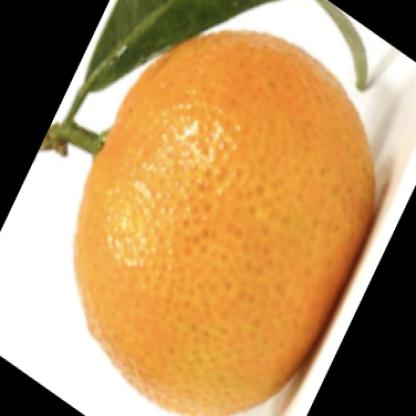fresh: (73, 28, 379, 416)
